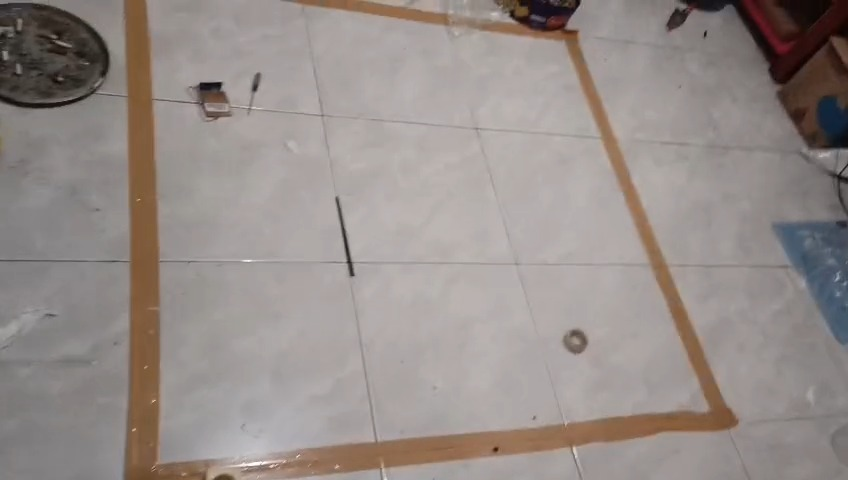floor marking: (124, 0, 737, 479), (297, 0, 449, 23)
